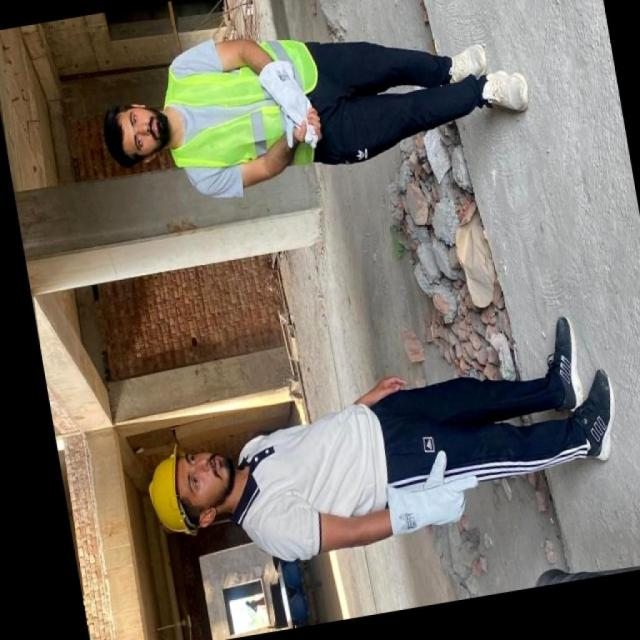Gloves-Detection: (376, 455, 480, 537), (253, 56, 319, 145)
